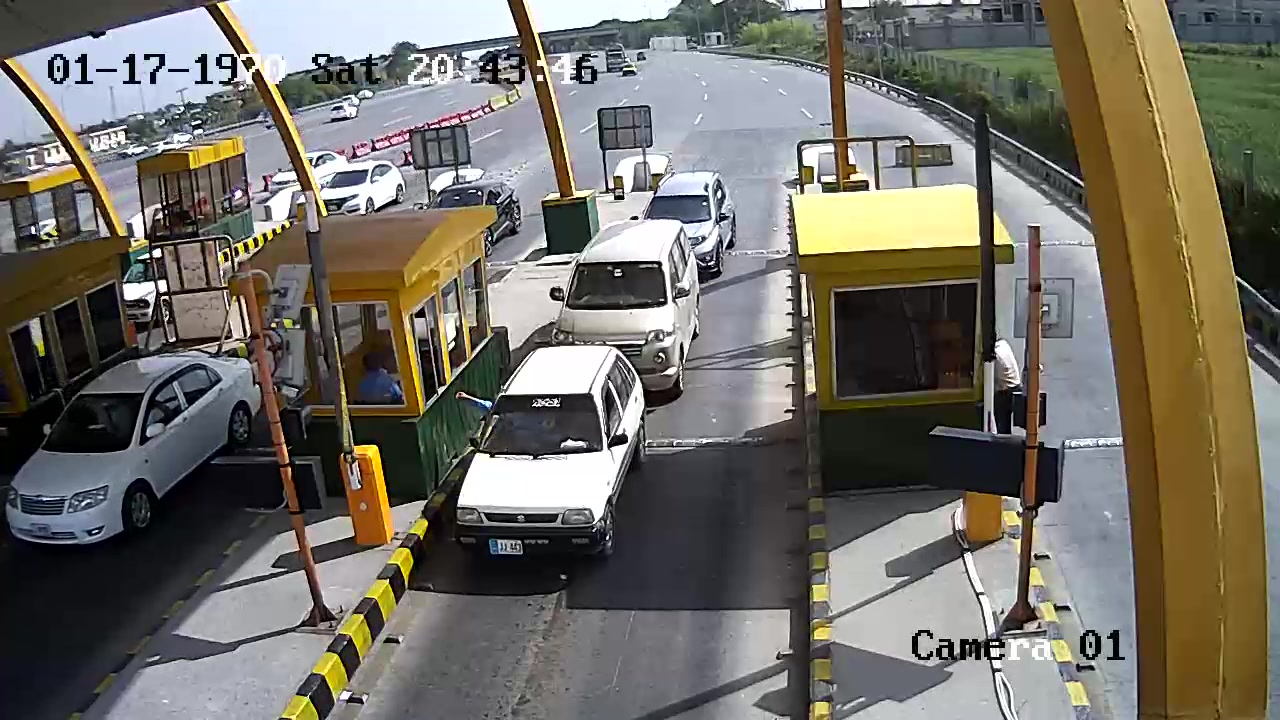F1: (450, 340, 649, 575), (549, 215, 708, 396)
